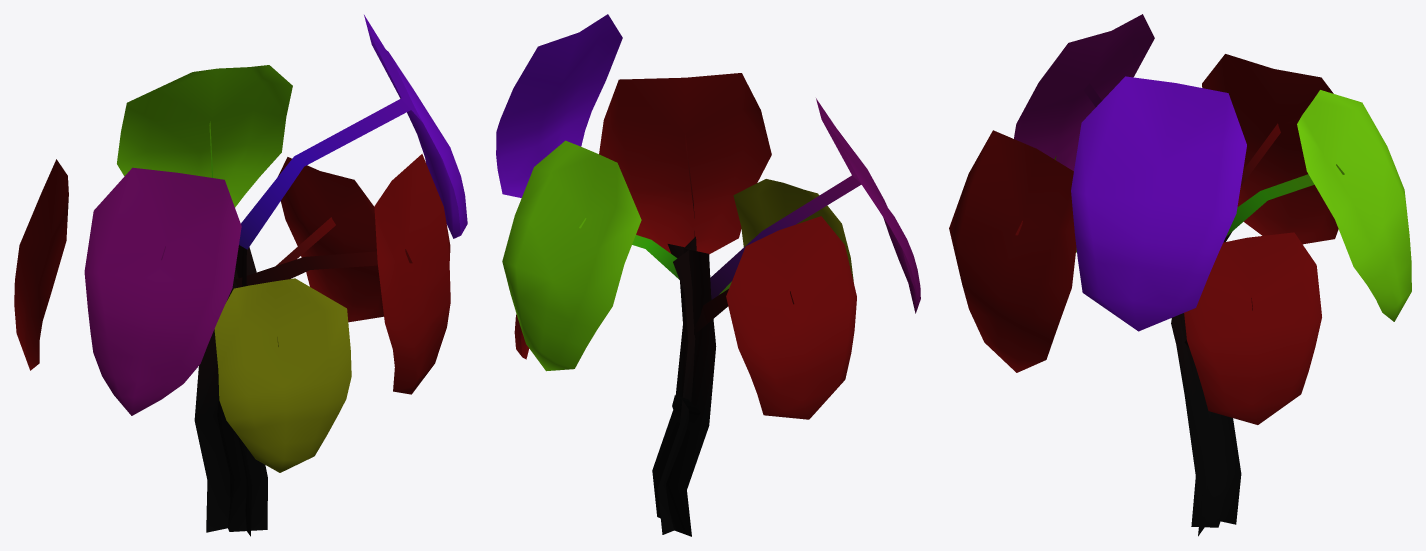
File: Anthurium_var2.fbx
3 views of the same model, side by side, from view 1: azimuth 30°, elevation 25°; view 2: azimuth 150°, elevation 25°; view 3: azimuth 270°, elevation 25° (orthographic). The views are drawn at different scales.
Visible parts, largest first — view 1: Anthurium_var2_LOD0; view 2: Anthurium_var2_LOD0; view 3: Anthurium_var2_LOD0.
Boxes of the visible parts, x1=… form: Anthurium_var2_LOD0: x1=14, y1=15, x2=467, y2=536; Anthurium_var2_LOD0: x1=496, y1=14, x2=920, y2=536; Anthurium_var2_LOD0: x1=949, y1=14, x2=1411, y2=536.
Size of what is drawn, in the model's own units: 6.01 by 7.07 by 5.88.
